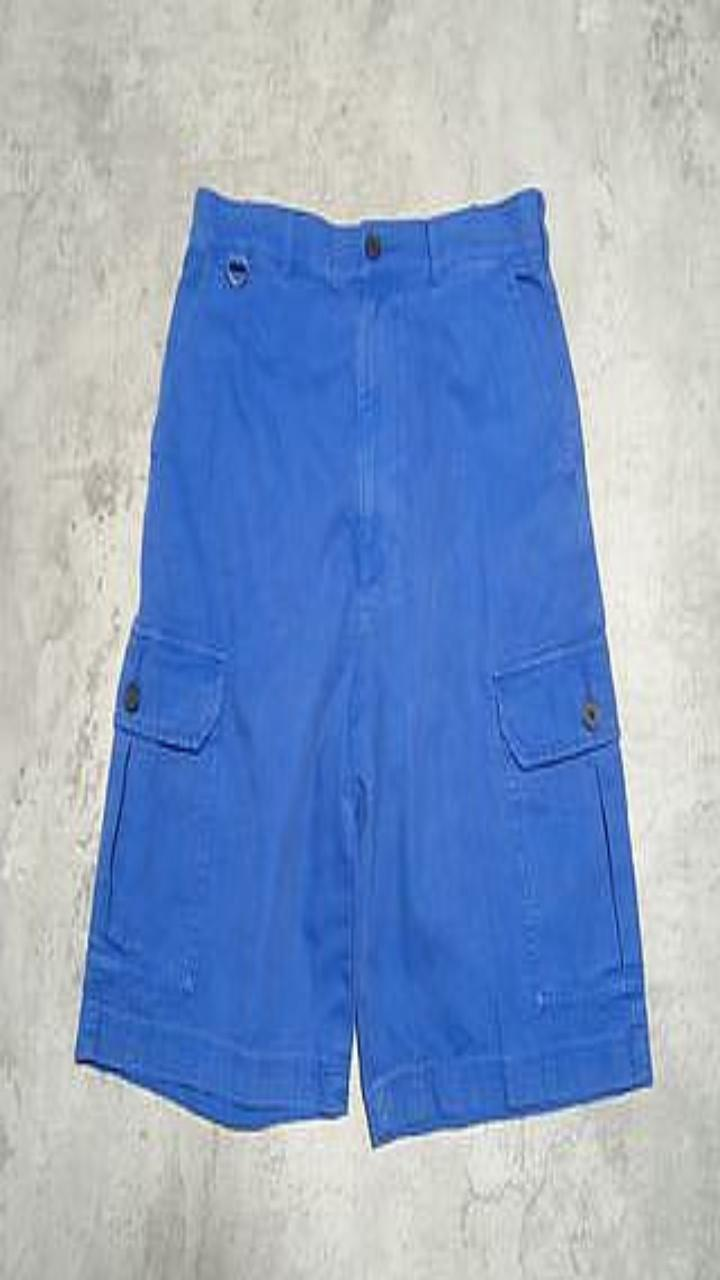Shorts: (76, 188, 651, 1143)
